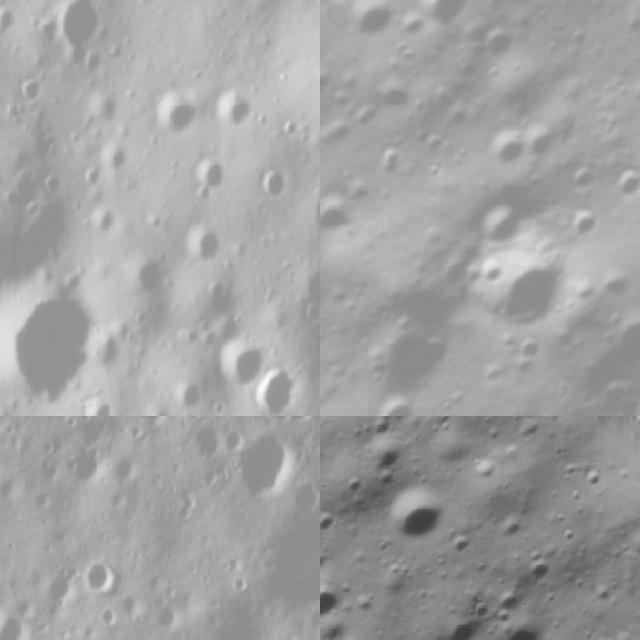crater: (456, 230, 584, 356), (343, 298, 462, 416), (0, 271, 99, 400), (371, 474, 458, 561), (218, 421, 301, 507), (456, 186, 536, 265), (472, 121, 533, 182), (335, 0, 406, 52), (354, 425, 412, 484), (399, 0, 482, 41), (48, 0, 104, 60), (320, 186, 367, 253), (216, 339, 269, 396), (475, 603, 554, 640), (560, 152, 614, 206), (471, 22, 524, 76), (152, 89, 206, 140), (252, 360, 298, 416), (320, 565, 354, 640), (187, 148, 230, 205), (81, 548, 126, 599), (125, 255, 168, 308), (87, 320, 129, 374), (355, 387, 430, 416), (560, 201, 606, 247), (37, 562, 76, 614), (433, 603, 487, 640), (603, 161, 640, 210), (217, 90, 254, 132), (187, 222, 221, 266), (320, 493, 346, 541), (96, 140, 129, 177), (0, 602, 31, 640), (84, 93, 116, 129), (82, 208, 116, 240), (320, 104, 336, 167), (0, 2, 22, 43), (260, 173, 291, 201), (82, 392, 114, 416), (20, 78, 42, 108)
